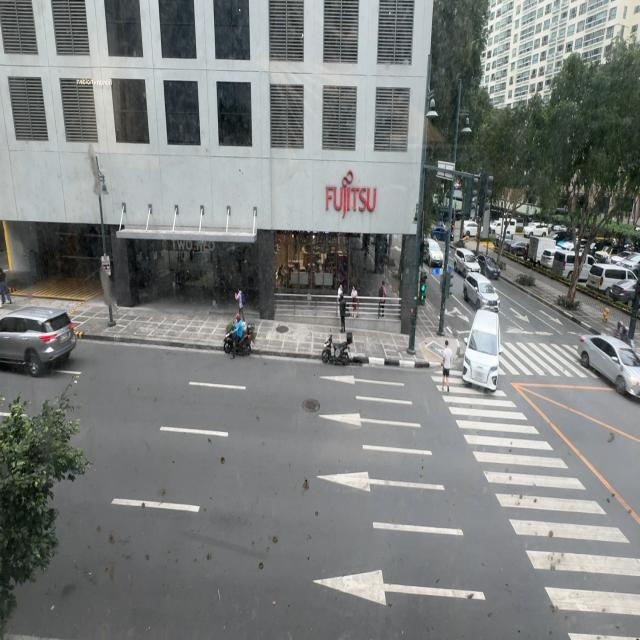crossing: (442, 340, 452, 391)
pedestrain: (0, 266, 12, 305), (235, 288, 245, 320)
